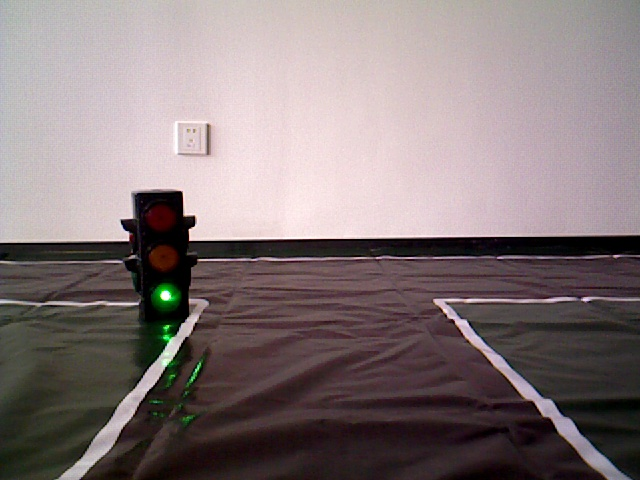green: (134, 200, 188, 316)
